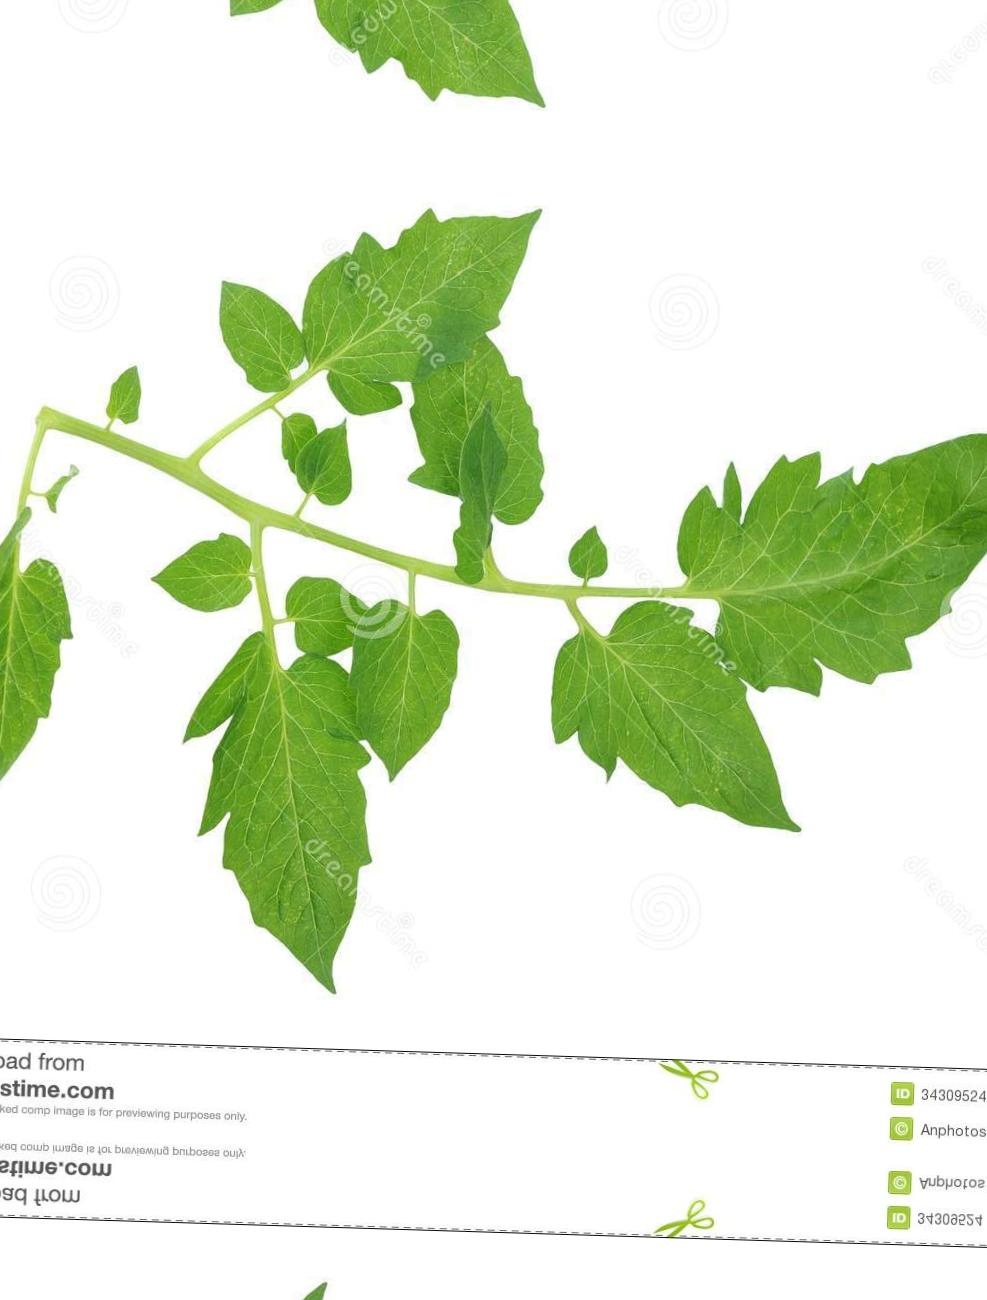Tomato leaf: (660, 359, 987, 697), (497, 573, 821, 871), (171, 627, 374, 1016), (281, 190, 571, 420), (390, 334, 590, 548), (317, 574, 476, 817), (0, 524, 110, 840)
